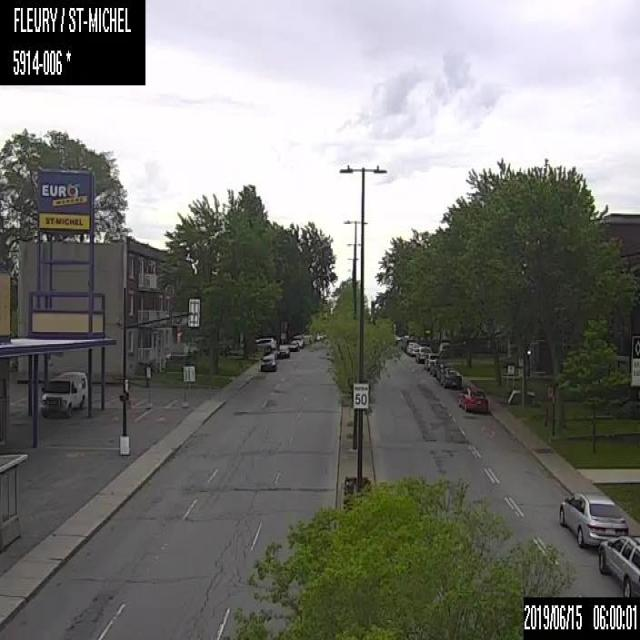vehicle: (558, 490, 628, 549), (597, 532, 639, 596), (41, 371, 88, 418), (457, 385, 488, 412), (438, 366, 461, 388), (259, 350, 276, 371), (428, 360, 450, 376), (255, 336, 276, 351), (414, 345, 431, 362), (424, 352, 438, 370), (276, 343, 290, 358), (406, 341, 419, 356), (292, 334, 305, 347), (288, 340, 298, 350)
